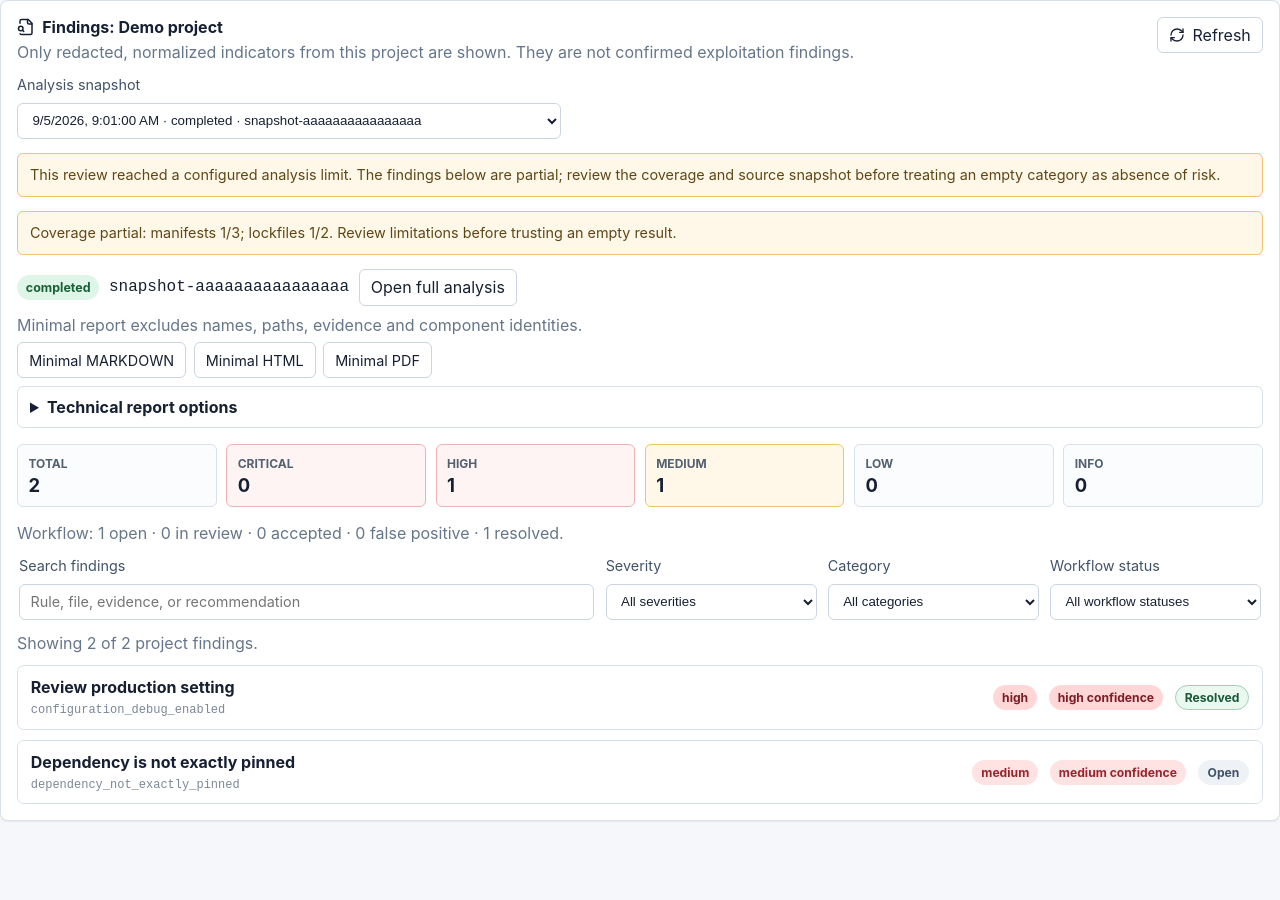
ProjectFindingsPanel › filters by workflow and keeps the latest justified decision with the finding
Expected: the text "1 resolved" is shown, top-left (17, 523), bottom-right (564, 543)
Step 1. Select "Resolved" in the dropdown labelled "Workflow status" → (1156, 602), box top-left (1050, 584), bottom-right (1261, 620)
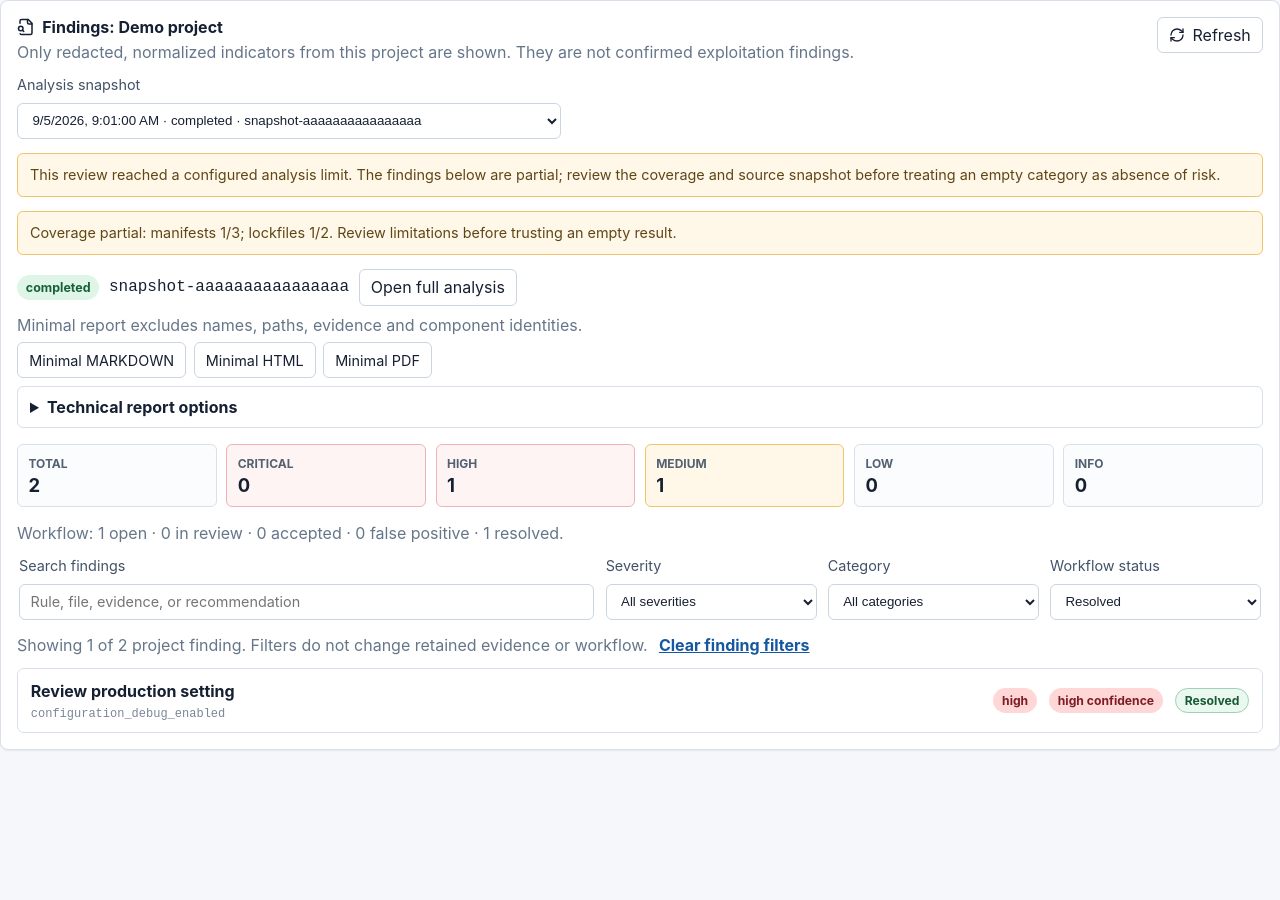
Expected: the text "Review production setting" is shown, top-left (31, 680), bottom-right (235, 700)
Result: the button "Dependency is not exactly pinned" is gone
Step 2. Click the button "Review production setting" → (133, 691), box top-left (18, 669), bottom-right (1262, 732)
(page scrolled)
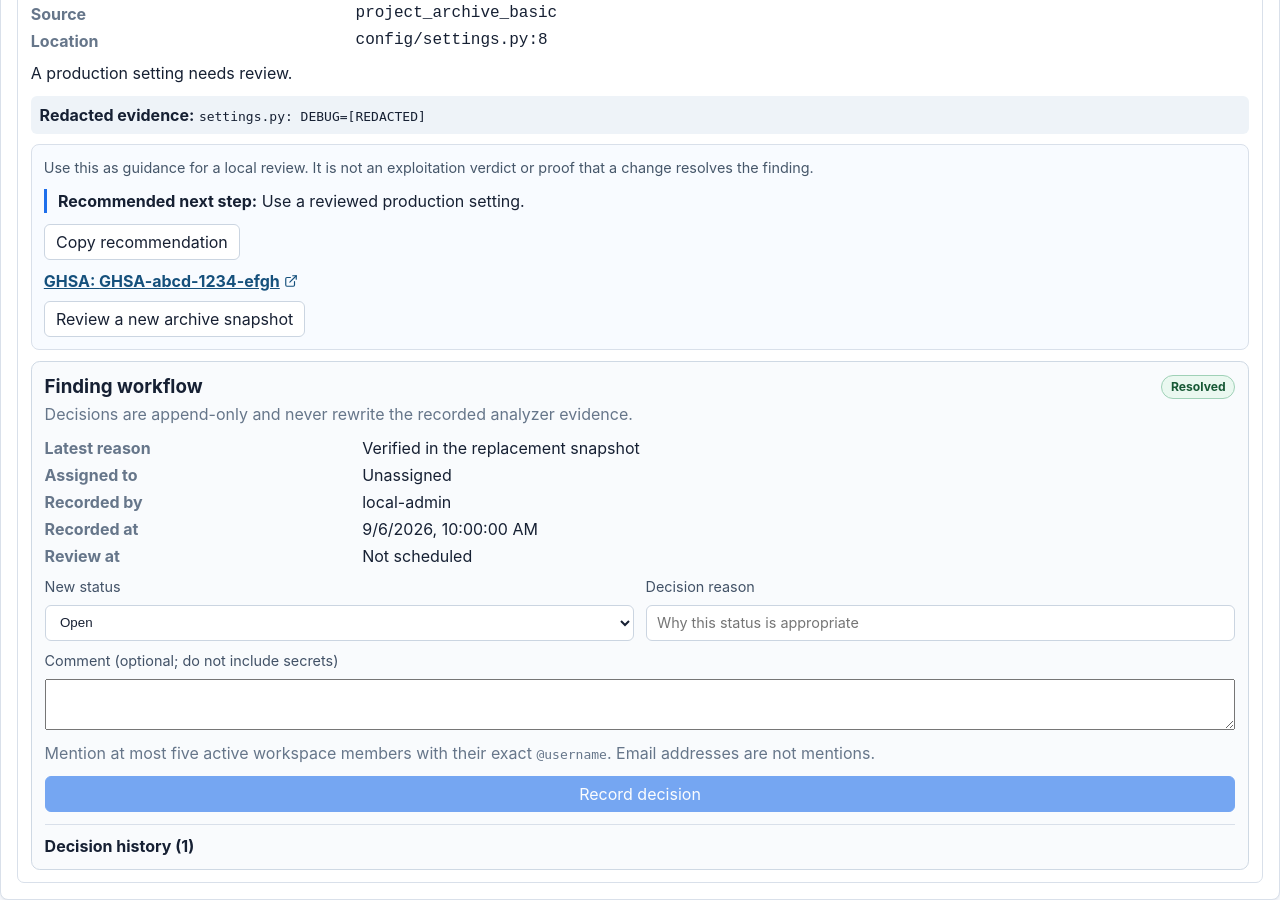
Result: the text "Verified in the replacement snapshot" is shown 2 times
Result: the heading "Decision history (1)" is shown at top-left (45, 836), bottom-right (194, 856)
